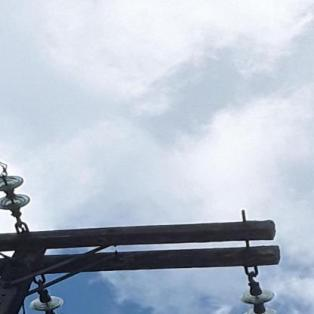Poste: (0, 238, 60, 314)
